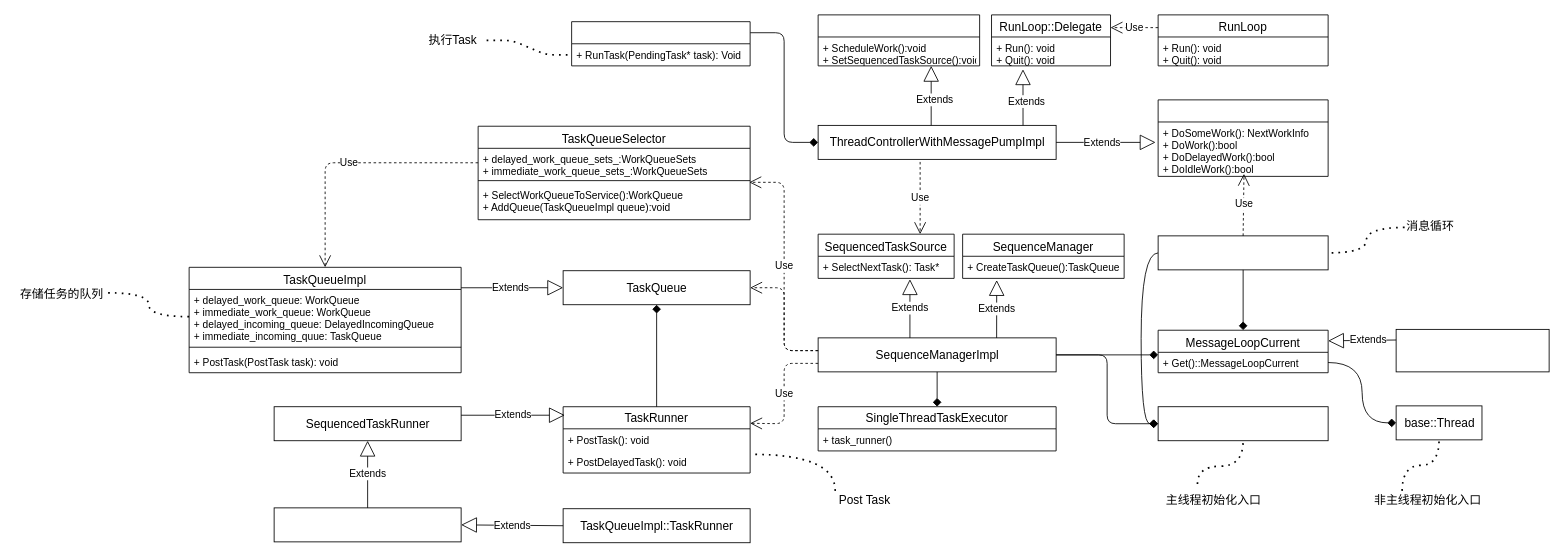
This 1564x558 diagram has some shape labels left out. Here are the shapes that lost their labels. From the top down, the box of each, then its label:
(571, 21, 750, 66): TaskAnnotator
(817, 14, 980, 66): ThreadController
(1157, 99, 1328, 176): MessagePump::Delegate
(1157, 235, 1328, 270): MessagePump
(1395, 329, 1549, 372): MessageLoopCurrentForUI MessageLoopCurrentForIO
(1157, 406, 1328, 441): MessageLoop
(273, 507, 461, 542): SingleSequencedTaskRunner
